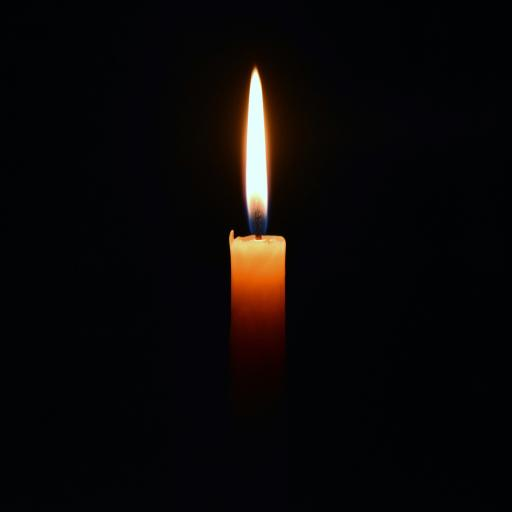candlelight: (228, 63, 288, 422), (243, 64, 270, 248)
